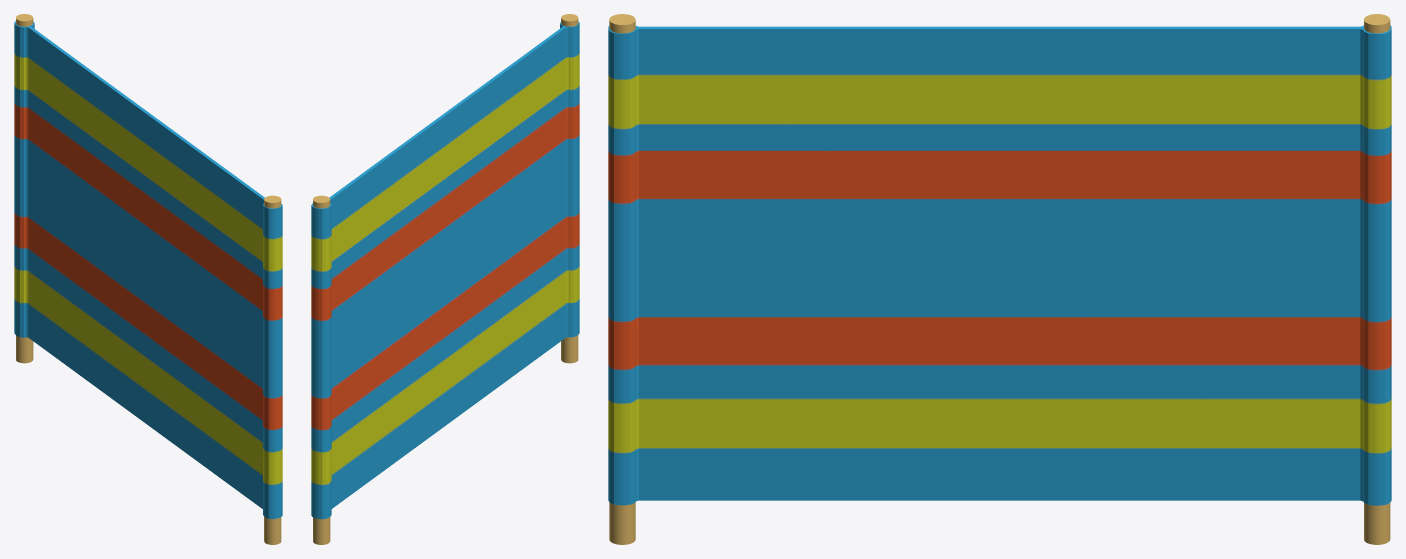
File: WindBreaker_Fixed.fbx
3 renders of one model, left to right at view 1: azimuth 30°, elevation 25°; view 2: azimuth 150°, elevation 25°; view 3: azimuth 270°, elevation 25°, orthographic. The views are drawn at different scales.
Visible parts, largest first — view 1: pCube1, pCylinder2, pCylinder1; view 2: pCube1, pCylinder1, pCylinder2; view 3: pCube1, pCylinder2, pCylinder1.
Part boxes in pixels (x1,y1,x2,y2): pCube1: (14, 21, 282, 519); pCylinder2: (264, 195, 281, 544); pCylinder1: (16, 14, 33, 363); pCube1: (311, 21, 579, 519); pCylinder1: (313, 195, 330, 544); pCylinder2: (561, 14, 578, 363); pCube1: (608, 25, 1391, 505); pCylinder2: (609, 14, 635, 544); pCylinder1: (1364, 14, 1390, 544).
Bounding box in the file's own units: 0.0659 × 1.3 × 1.77.
2 materials, 1 textured.
